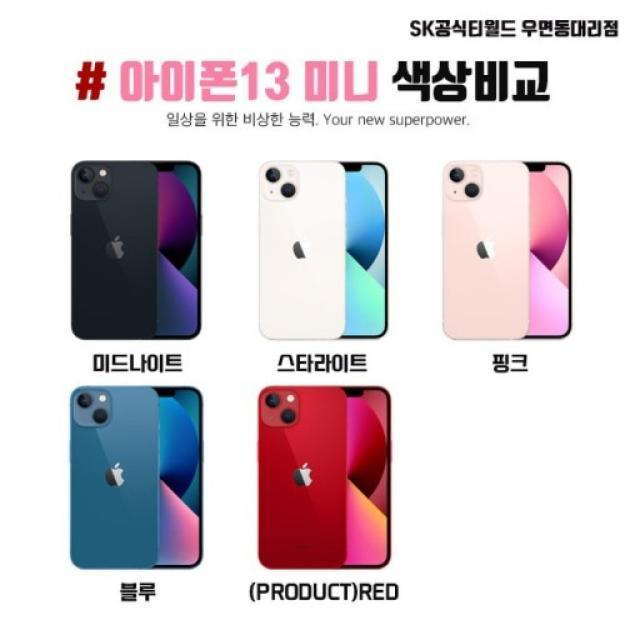phone: (256, 385, 347, 571), (70, 384, 159, 568), (258, 160, 347, 342), (70, 160, 158, 340), (442, 160, 530, 340)
